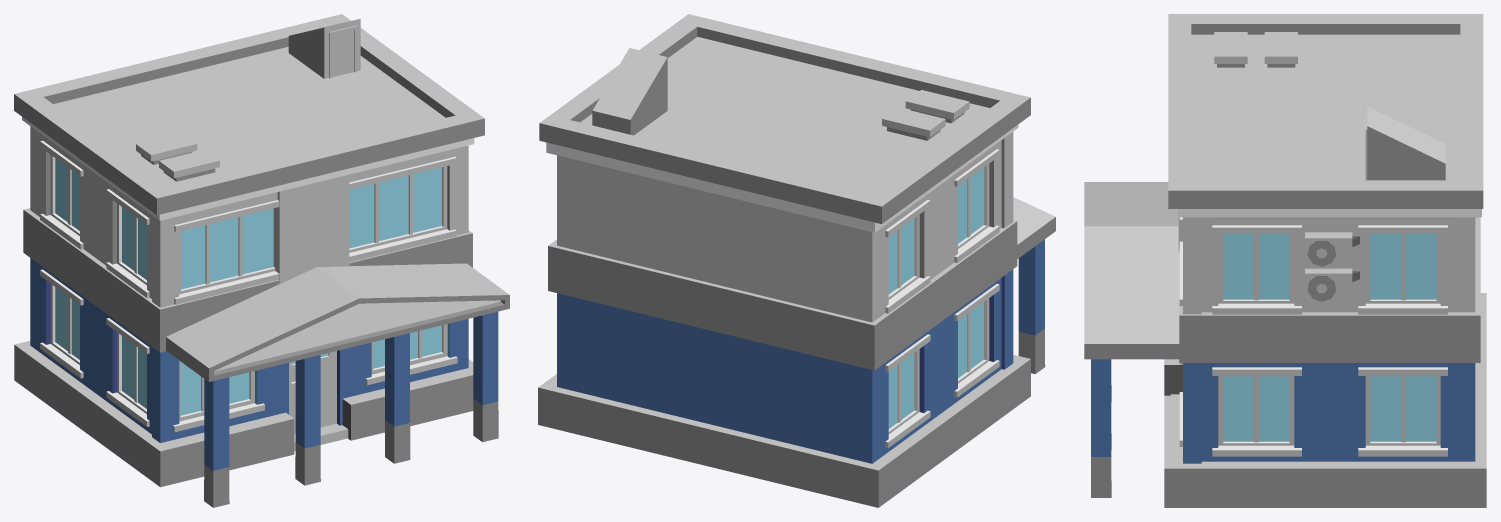
The model's file is House_4.fbx.
The picture shows the model from 3 angles, left to right: view 1: azimuth 30°, elevation 25°; view 2: azimuth 150°, elevation 25°; view 3: azimuth 270°, elevation 25°; orthographic projection. The views are drawn at different scales.
Visible parts, largest first — view 1: House_4; view 2: House_4; view 3: House_4.
Part boxes in pixels (x1,y1,x2,y2): House_4: (14,14,509,507); House_4: (538,14,1055,507); House_4: (1084,14,1486,507).
Bounding box in the file's own units: 4.46 × 4.3 × 4.3.
